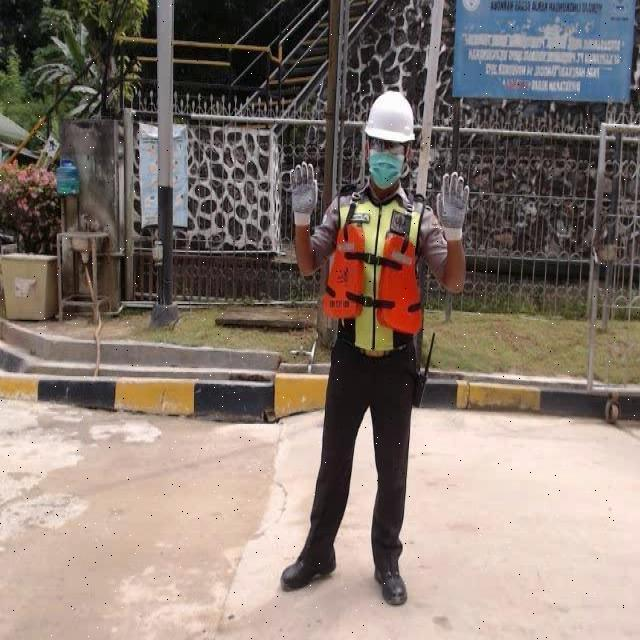Hard_hat: (358, 96, 421, 150)
Vest: (331, 195, 422, 351)
